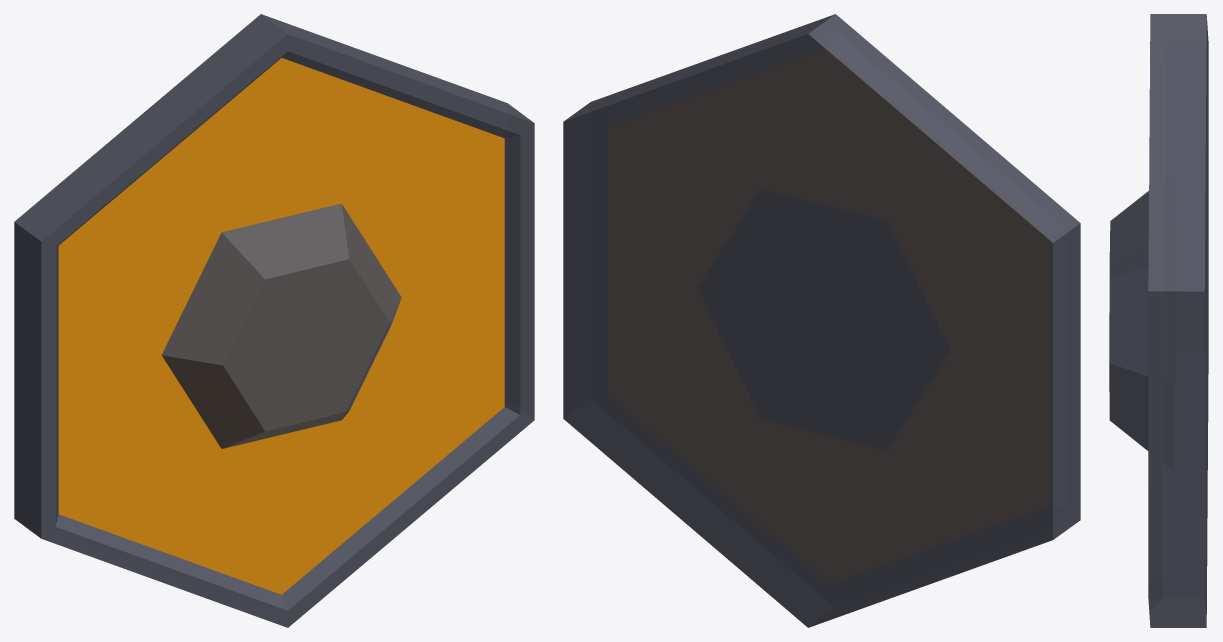
Rendered from Shield.fbx.
3 views of the same model, side by side, from view 1: azimuth 30°, elevation 25°; view 2: azimuth 150°, elevation 25°; view 3: azimuth 270°, elevation 25° (orthographic). The views are drawn at different scales.
Parts seen in each view (by area): view 1: S_Shield; view 2: S_Shield; view 3: S_Shield.
Boxes of the visible parts, bbox=[...] form: S_Shield: bbox=[14, 14, 534, 627]; S_Shield: bbox=[563, 14, 1080, 627]; S_Shield: bbox=[1109, 14, 1208, 627].
Bounding box in the file's own units: 54.62 × 63.03 × 9.24.
